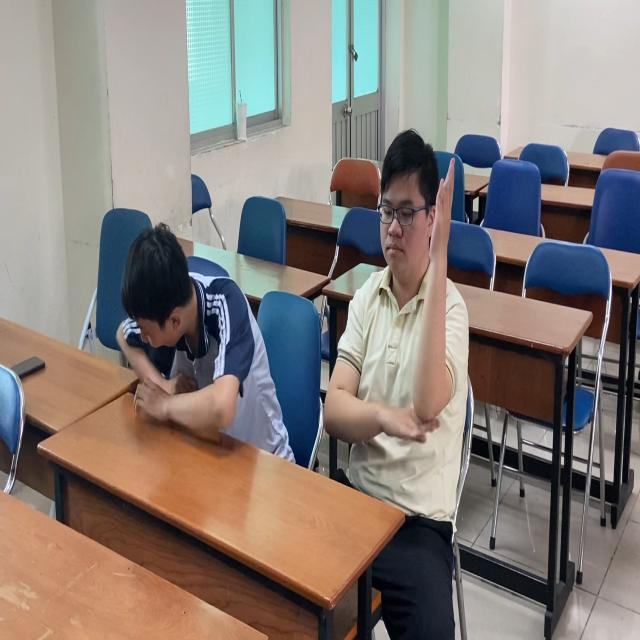raise_hand: (317, 124, 472, 461)
sleep: (109, 215, 272, 450)
